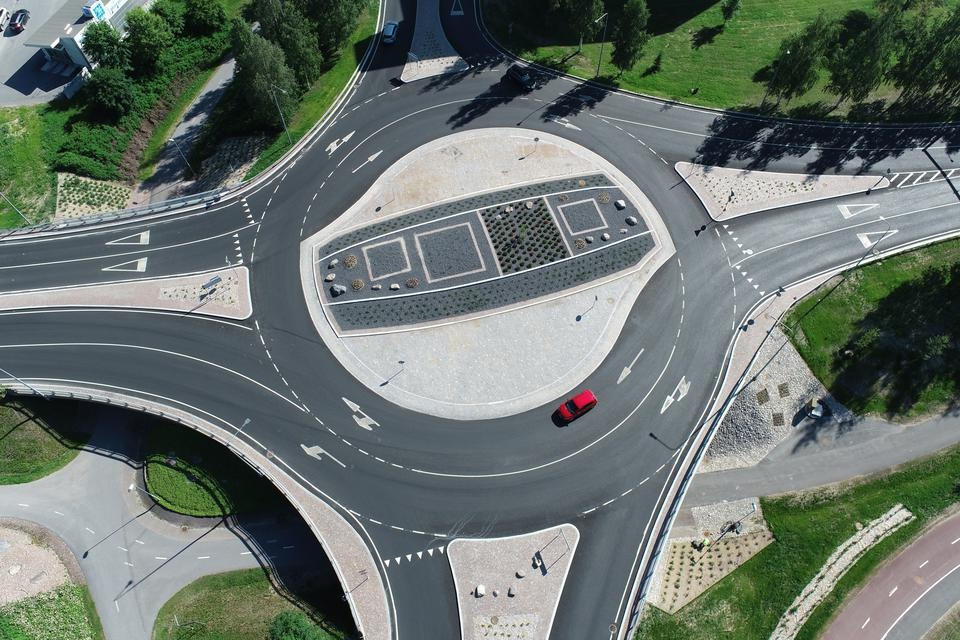roundabout: (215, 22, 773, 630)
